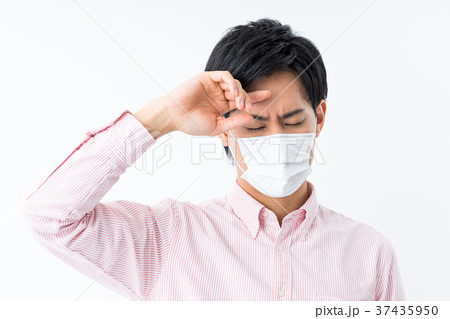mask: (235, 133, 315, 197)
